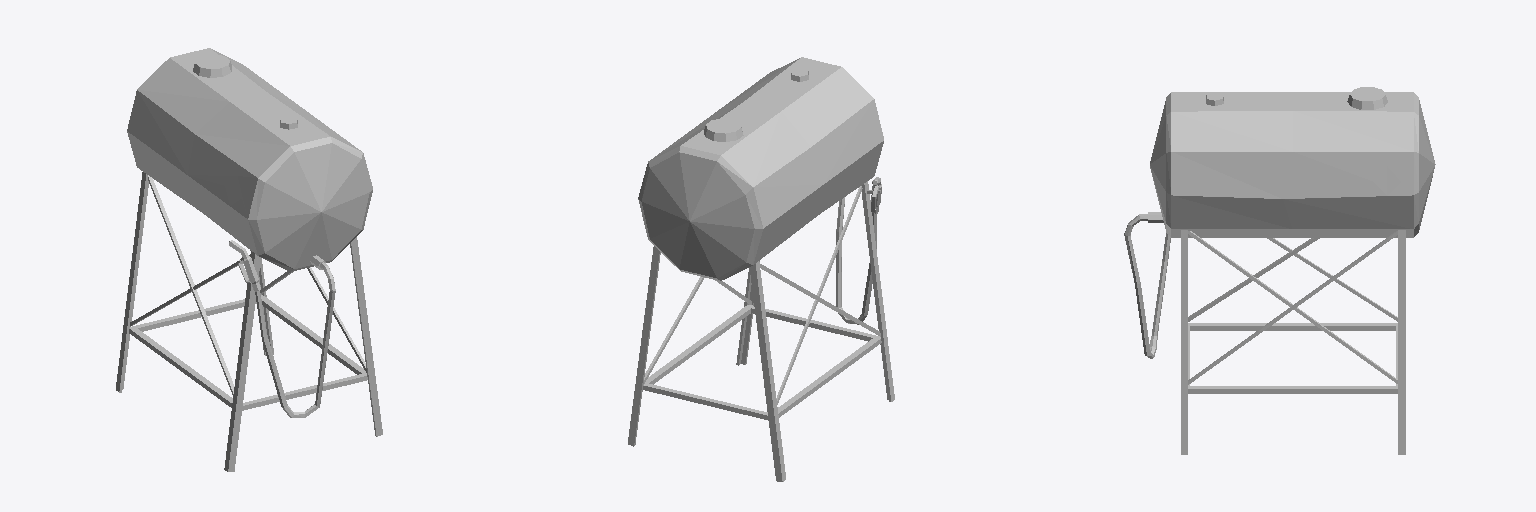
File: SM_Prop_Gastank_01.obj
3 views of the same model, side by side, from view 1: azimuth 30°, elevation 25°; view 2: azimuth 150°, elevation 25°; view 3: azimuth 270°, elevation 25° (orthographic).
Size of the model in its own units: 146 by 291 by 253.